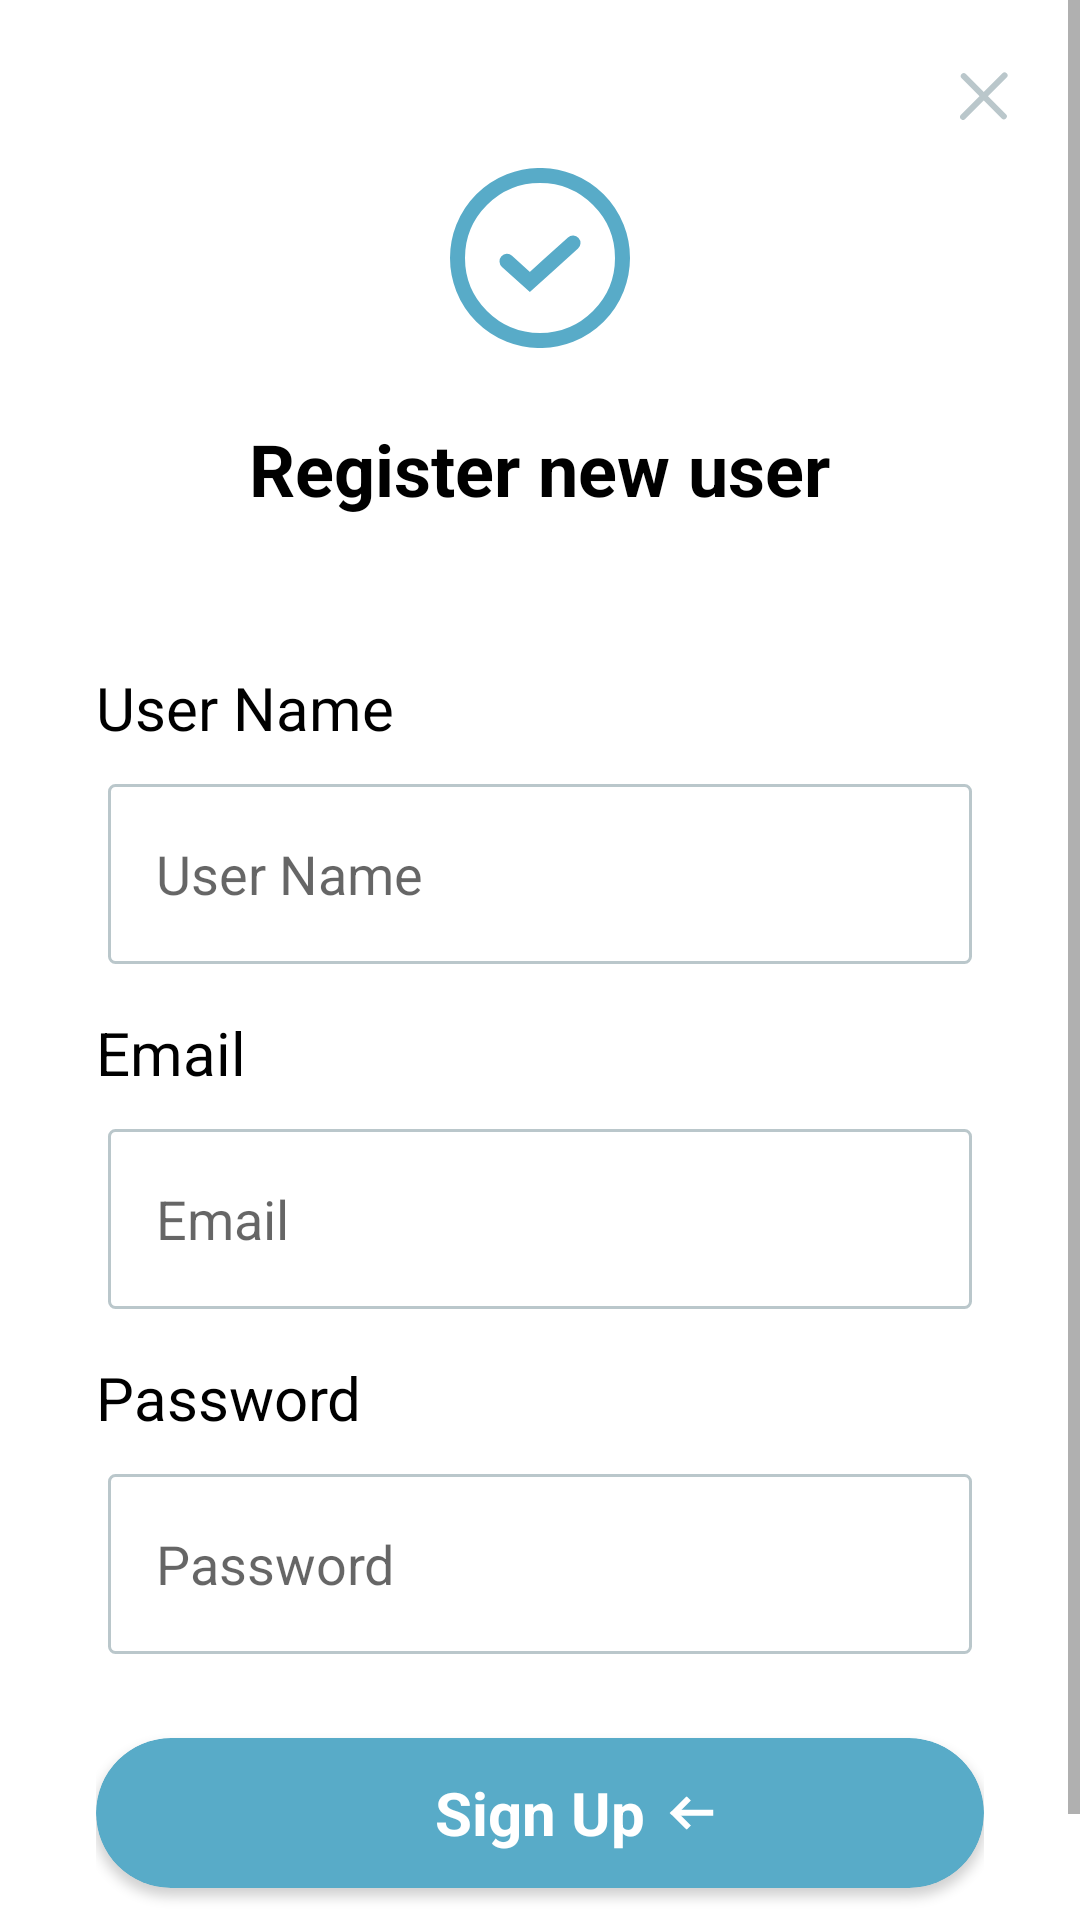

Named icons in this screenshot (1080 x 1920) and their bounding boxes, Rect(x1, y1, x2, y2):
arrow: Rect(670, 1796, 714, 1830)
check: Rect(450, 168, 630, 348)
